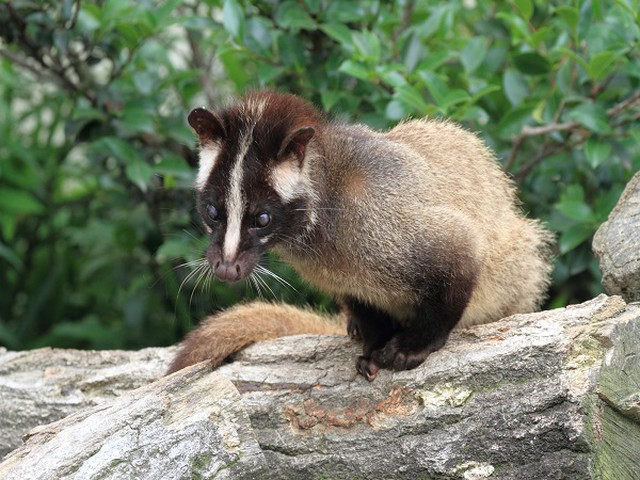civet: (176, 83, 563, 379)
